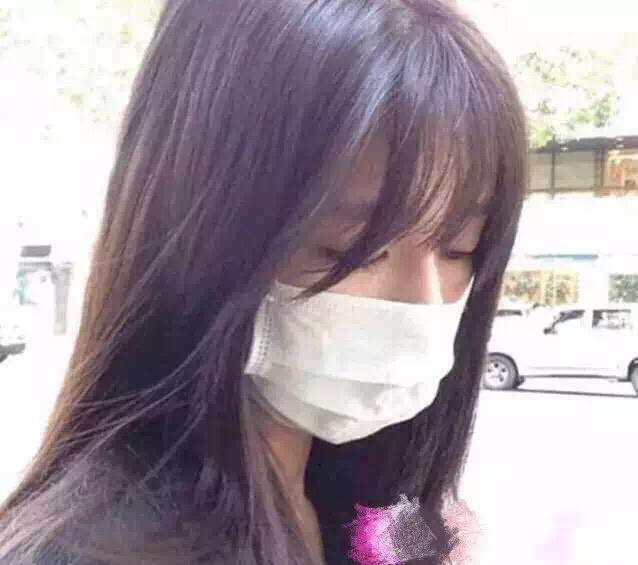mask: (247, 249, 485, 448)
